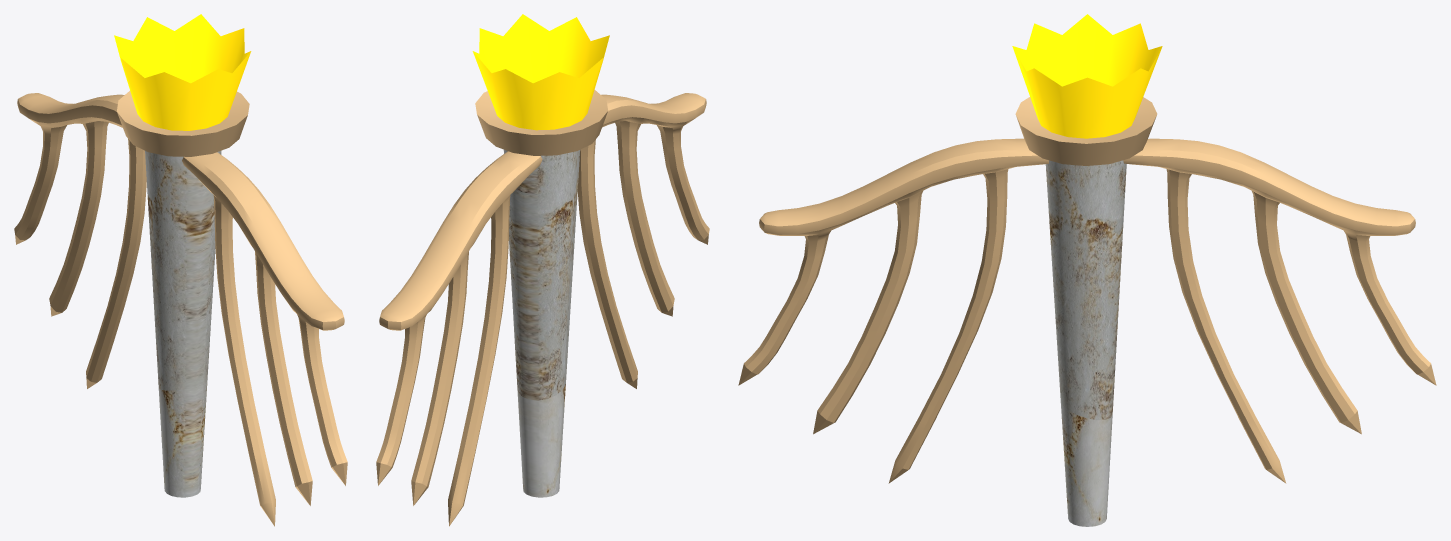
File: track2Light.glb
3 views of the same model, side by side, from view 1: azimuth 30°, elevation 25°; view 2: azimuth 150°, elevation 25°; view 3: azimuth 270°, elevation 25° (orthographic). The views are drawn at different scales.
Visible parts, largest first — view 1: track2light; view 2: track2light; view 3: track2light.
Part boxes in pixels (x1,y1,x2,y2): track2light: (14,14,347,526); track2light: (376,14,709,526); track2light: (738,14,1436,526).
Bounding box in the file's own units: 0.4794 × 1.66 × 2.22.
Materials: 3 (1 with a texture image).
